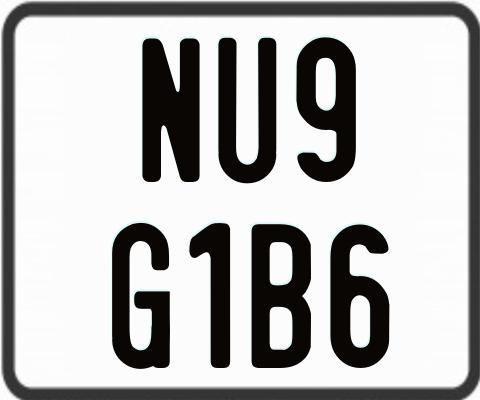1: (187, 220, 231, 365)
6: (328, 224, 388, 372)
9: (294, 36, 357, 187)
B: (252, 222, 315, 372)
G: (112, 222, 174, 371)
N: (140, 37, 199, 181)
U: (217, 38, 277, 188)
